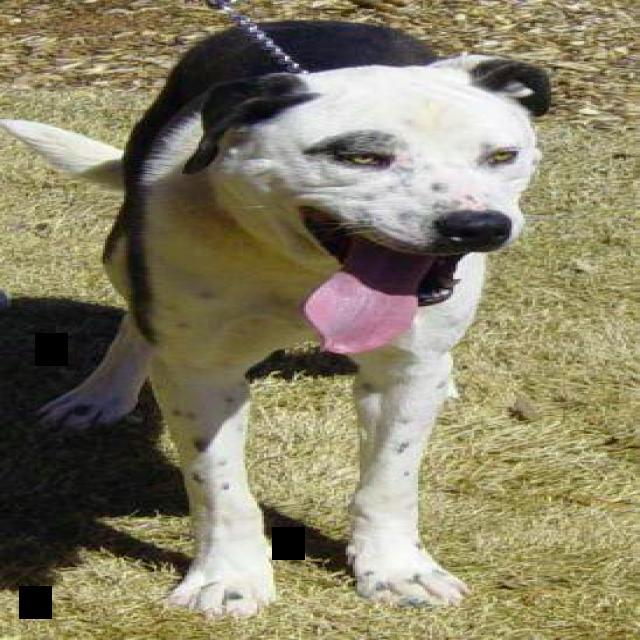adult_dog: (2, 17, 559, 617)
